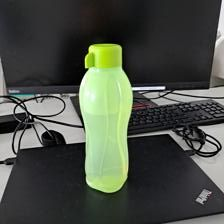bottle: (75, 41, 136, 193)
